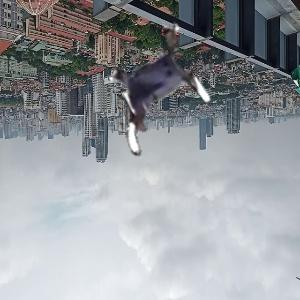drone: (95, 28, 218, 151)
